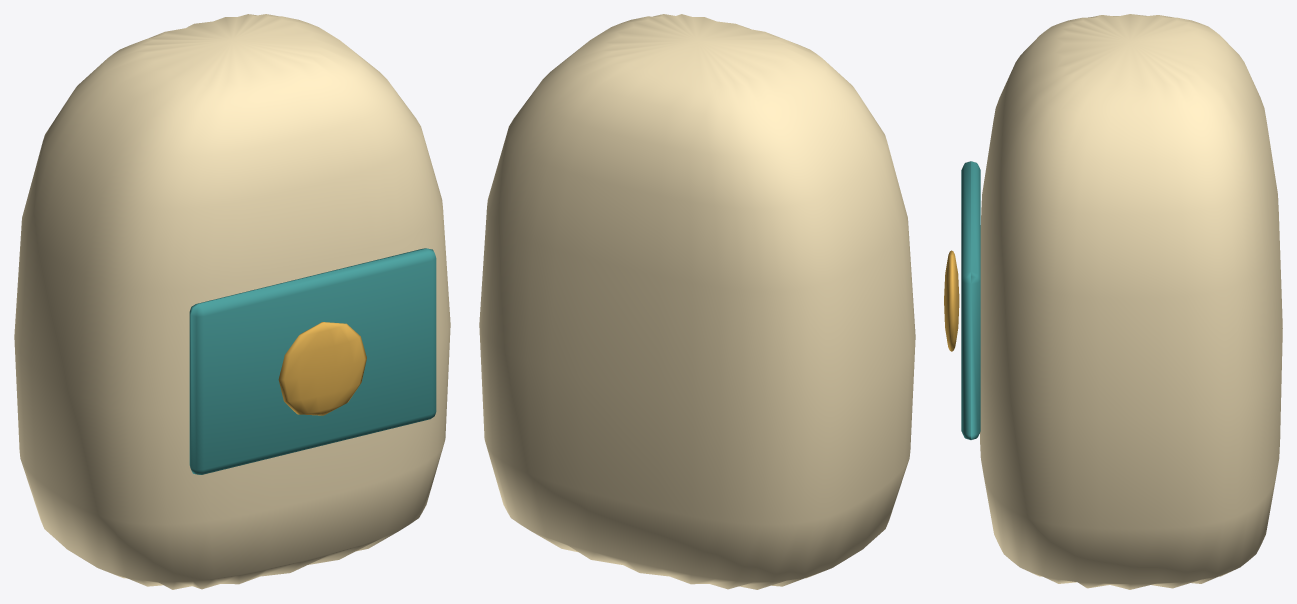
The model's file is goods_feed.glb.
The picture shows the model from 3 angles, left to right: view 1: azimuth 30°, elevation 25°; view 2: azimuth 150°, elevation 25°; view 3: azimuth 270°, elevation 25°; orthographic projection.
Parts seen in each view (by area): view 1: goods_feed_crafted_mesh; view 2: goods_feed_crafted_mesh; view 3: goods_feed_crafted_mesh.
Boxes of the visible parts, x1,y1,x2,y2 form: goods_feed_crafted_mesh: [14, 14, 450, 589]; goods_feed_crafted_mesh: [479, 14, 915, 589]; goods_feed_crafted_mesh: [944, 14, 1282, 589].
Bounding box in the file's own units: 0.5499 × 0.7063 × 0.4368.
